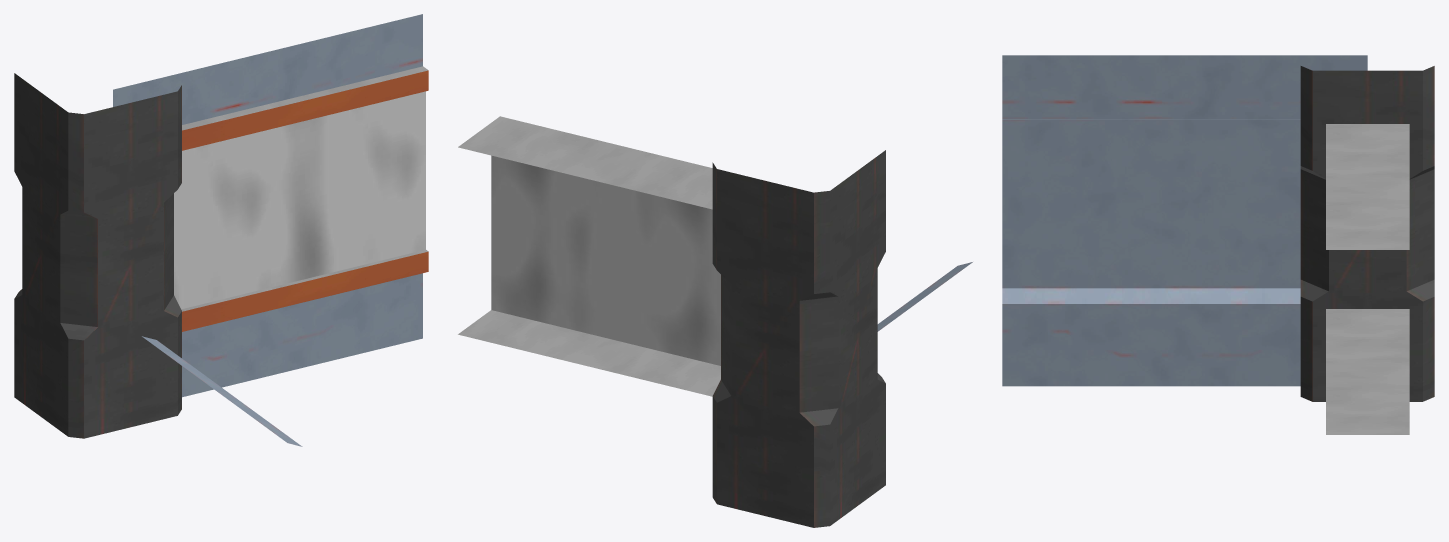
File: Wall_WindowCorner_1_B.glb
3 renders of one model, left to right at view 1: azimuth 30°, elevation 25°; view 2: azimuth 150°, elevation 25°; view 3: azimuth 270°, elevation 25°, orthographic. The views are drawn at different scales.
Visible parts, largest first — view 1: Wall_WindowCorner_1_B; view 2: Wall_WindowCorner_1_B; view 3: Wall_WindowCorner_1_B.
Boxes of the visible parts, x1=… form: Wall_WindowCorner_1_B: x1=14, y1=14, x2=428, y2=446; Wall_WindowCorner_1_B: x1=458, y1=116, x2=972, y2=527; Wall_WindowCorner_1_B: x1=1002, y1=55, x2=1434, y2=434.
Bounding box in the file's own units: 7.1 × 6 × 7.1.
3 materials, 3 textured.
